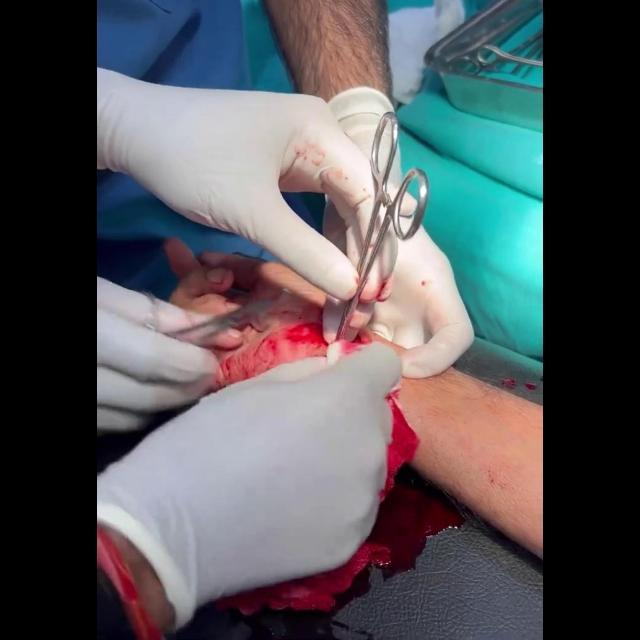blood: (176, 482, 460, 638), (212, 306, 328, 391), (381, 391, 421, 502), (328, 327, 398, 362), (502, 378, 538, 392)
